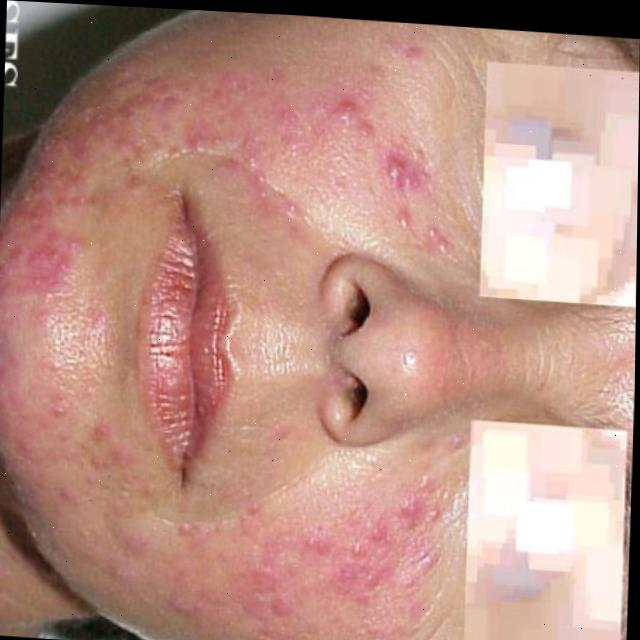Rosacea: (6, 14, 465, 248), (31, 400, 477, 640), (0, 141, 133, 541)
